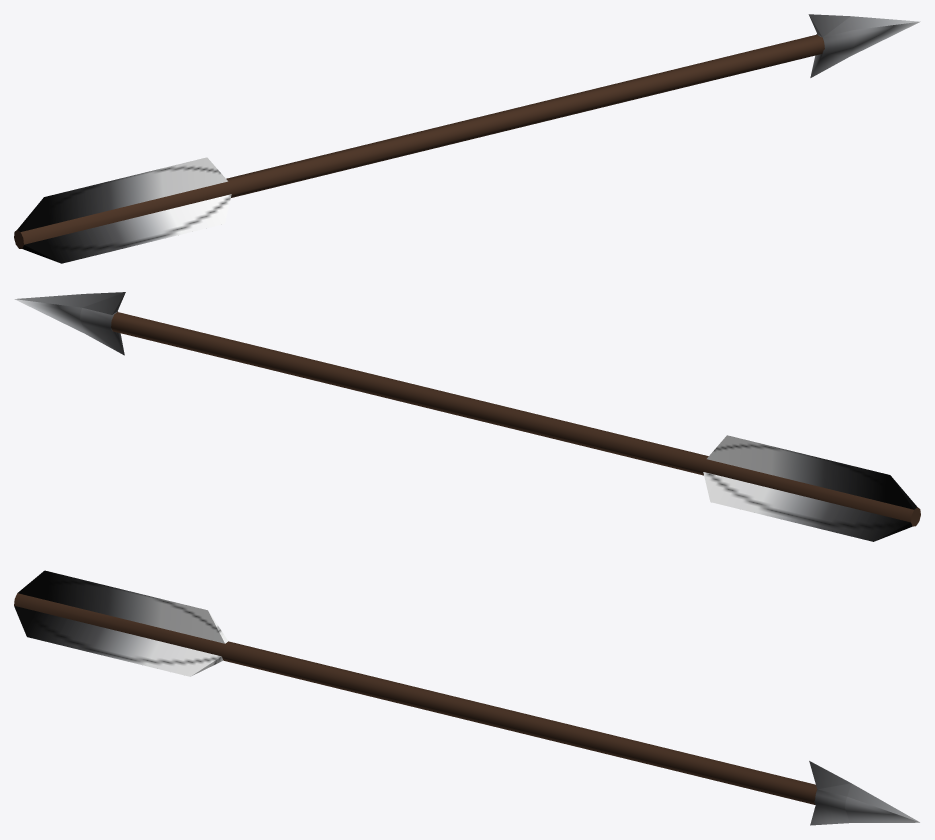
The model's file is Arrow.FBX.
3 views of the same model, one above another, from view 1: azimuth 30°, elevation 25°; view 2: azimuth 150°, elevation 25°; view 3: azimuth 330°, elevation 25° (orthographic).
Visible parts, largest first — view 1: Cylinder001; view 2: Cylinder001; view 3: Cylinder001.
Part boxes in pixels (x1,y1,x2,y2): Cylinder001: (14, 14, 920, 263); Cylinder001: (14, 292, 920, 541); Cylinder001: (14, 570, 919, 825).
Bounding box in the file's own units: 27.19 × 1.96 × 1.8.
Materials: 1 (1 with a texture image).
